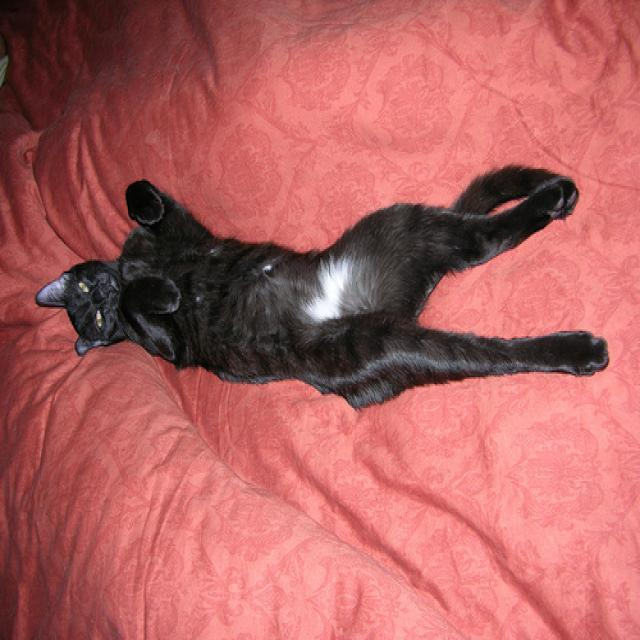Bombay: (33, 258, 119, 355)
